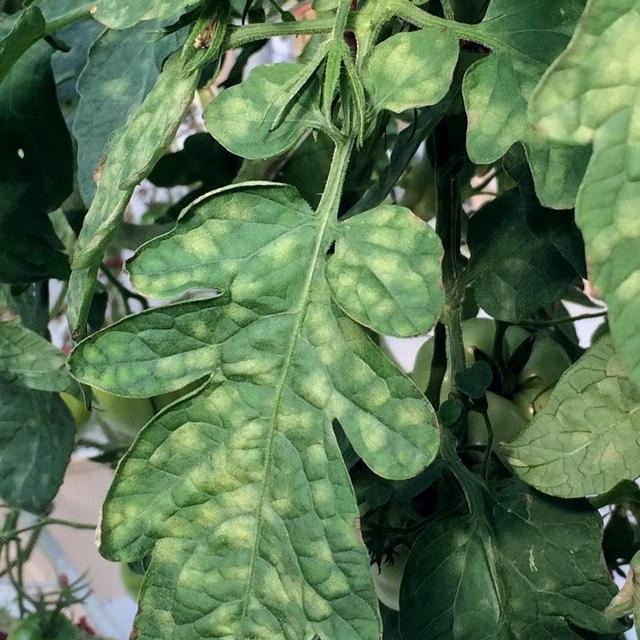Tomato mold leaf: (71, 179, 441, 640), (487, 0, 640, 520), (506, 298, 640, 505), (86, 0, 375, 40), (357, 27, 468, 126), (198, 59, 304, 160)
